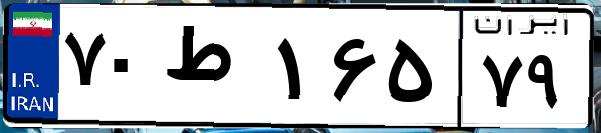0: (110, 28, 158, 98)
1: (270, 28, 330, 110)
5: (385, 28, 445, 110)
6: (330, 28, 385, 110)
7: (57, 26, 110, 100), (475, 38, 525, 113)
9: (525, 38, 570, 115)
ط: (158, 20, 270, 120)
